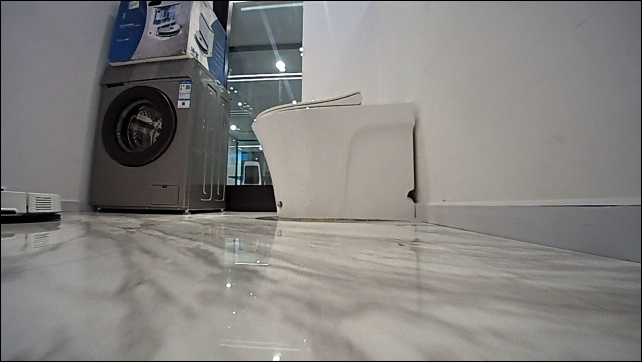toilet: (253, 90, 421, 220)
washing_machine: (85, 58, 231, 211)
